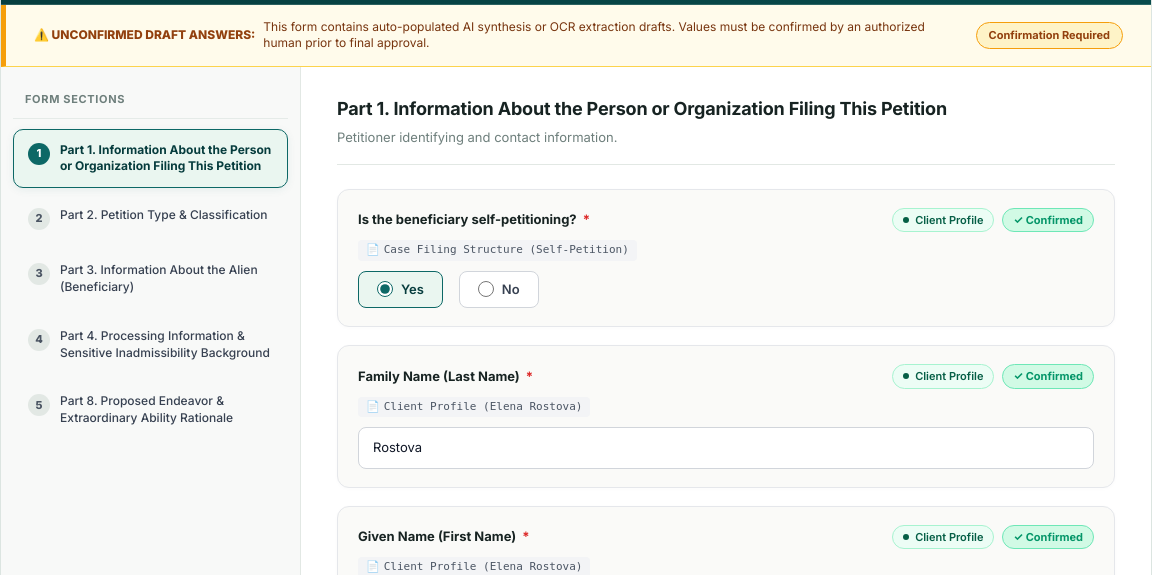
Phase 8 — Application Forms, Readiness Checks, and Package Builder › ConfigurableFormViewer Component › evaluates conditional fields dynamically
Expected: the text "Company or Organization Name (if petitioning entity)" is not shown
# Toggle self-petitioning to "No"
Click the radio button labelled "No".
click(486, 289)  # box [478,281,494,297]
(page scrolled)
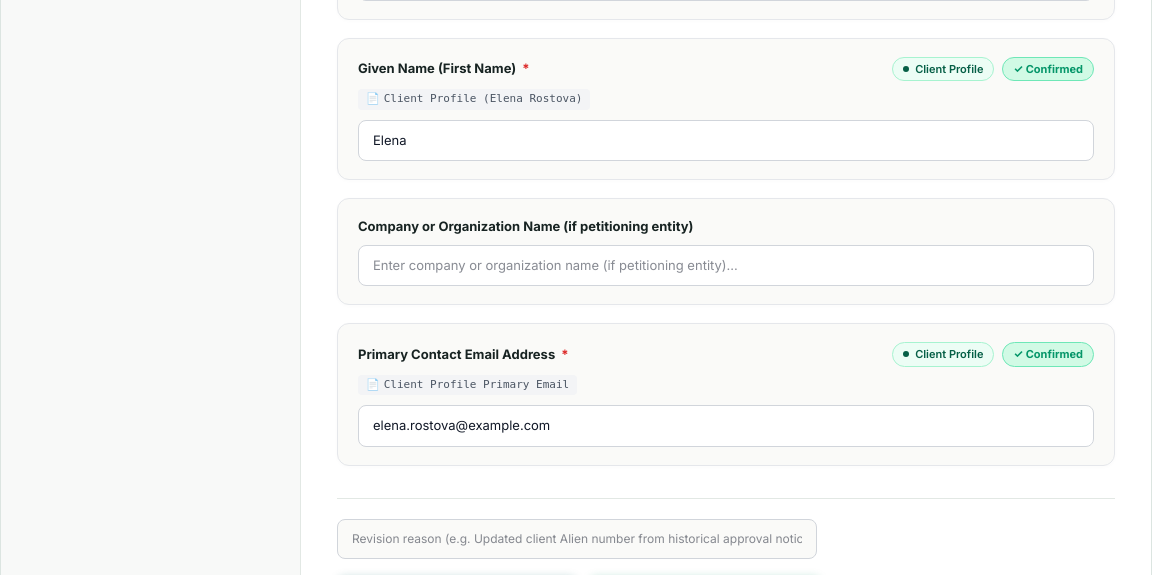
Expected: the text "Company or Organization Name (if petitioning entity)" is shown, [358,217,693,237]
